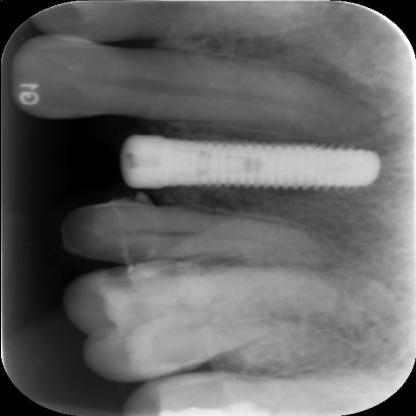Bego: (158, 131, 387, 192)
